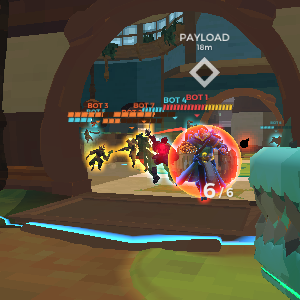model: (187, 120, 229, 217), (123, 131, 140, 171), (91, 142, 112, 173)
